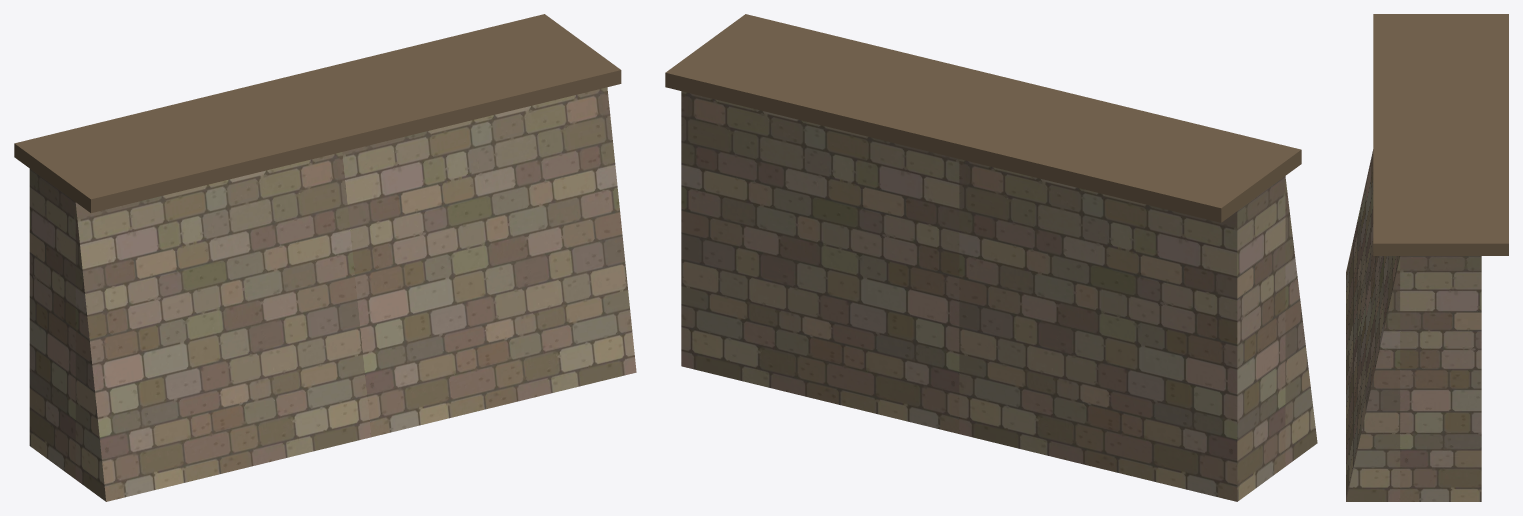
File: terrace_retaining_wall_4m.glb
3 views of the same model, side by side, from view 1: azimuth 30°, elevation 25°; view 2: azimuth 150°, elevation 25°; view 3: azimuth 270°, elevation 25° (orthographic). The views are drawn at different scales.
Visible parts, largest first — view 1: Terrace_Retaining_Wall_4m; view 2: Terrace_Retaining_Wall_4m; view 3: Terrace_Retaining_Wall_4m.
Boxes of the visible parts, x1=… form: Terrace_Retaining_Wall_4m: x1=14, y1=14, x2=636, y2=501; Terrace_Retaining_Wall_4m: x1=665, y1=14, x2=1317, y2=501; Terrace_Retaining_Wall_4m: x1=1346, y1=14, x2=1508, y2=501.
Size of the model in its own units: 4 by 2.1 by 1.2.
Materials: 2 (2 with a texture image).
